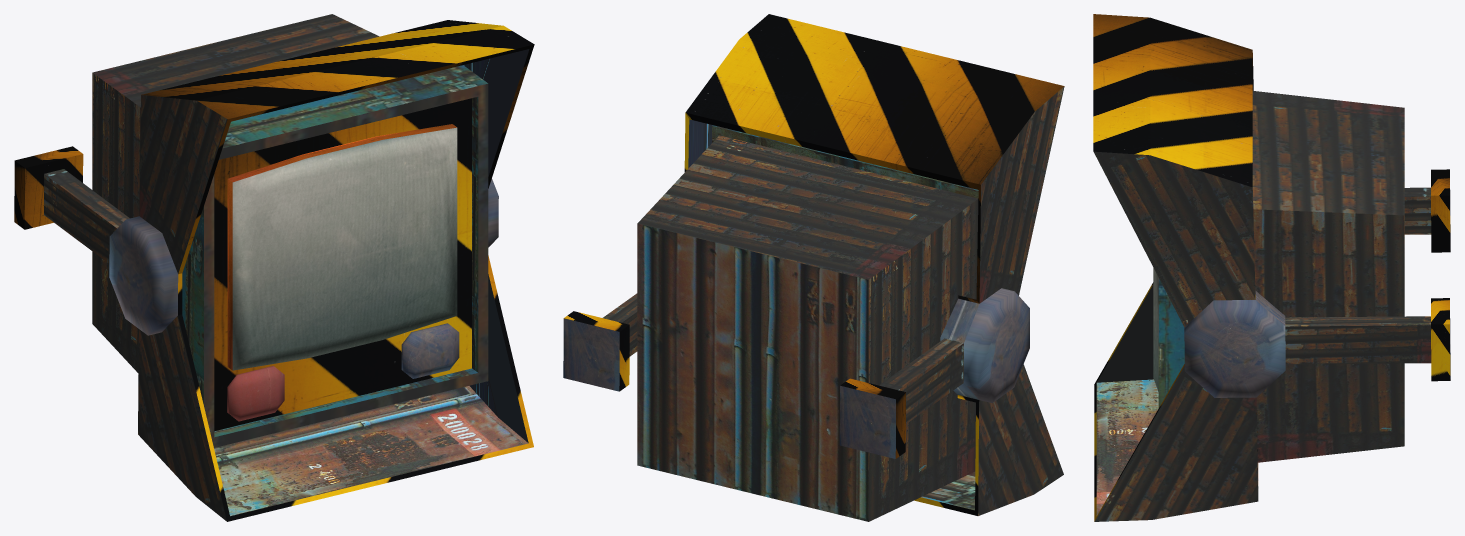
File: WallTerminal.fbx
3 views of the same model, side by side, from view 1: azimuth 30°, elevation 25°; view 2: azimuth 150°, elevation 25°; view 3: azimuth 270°, elevation 25° (orthographic). The views are drawn at different scales.
Parts seen in each view (by area): view 1: Screen, ButtonR, ButtonL; view 2: Screen; view 3: Screen.
Boxes of the visible parts, x1,y1,x2,y2 form: Screen: (14,14,534,521); ButtonR: (401,323,459,378); ButtonL: (227,366,284,421); Screen: (563,14,1064,521); Screen: (1093,14,1450,521).
Size of the model in its own units: 0.6336 by 0.6179 by 0.7072.
